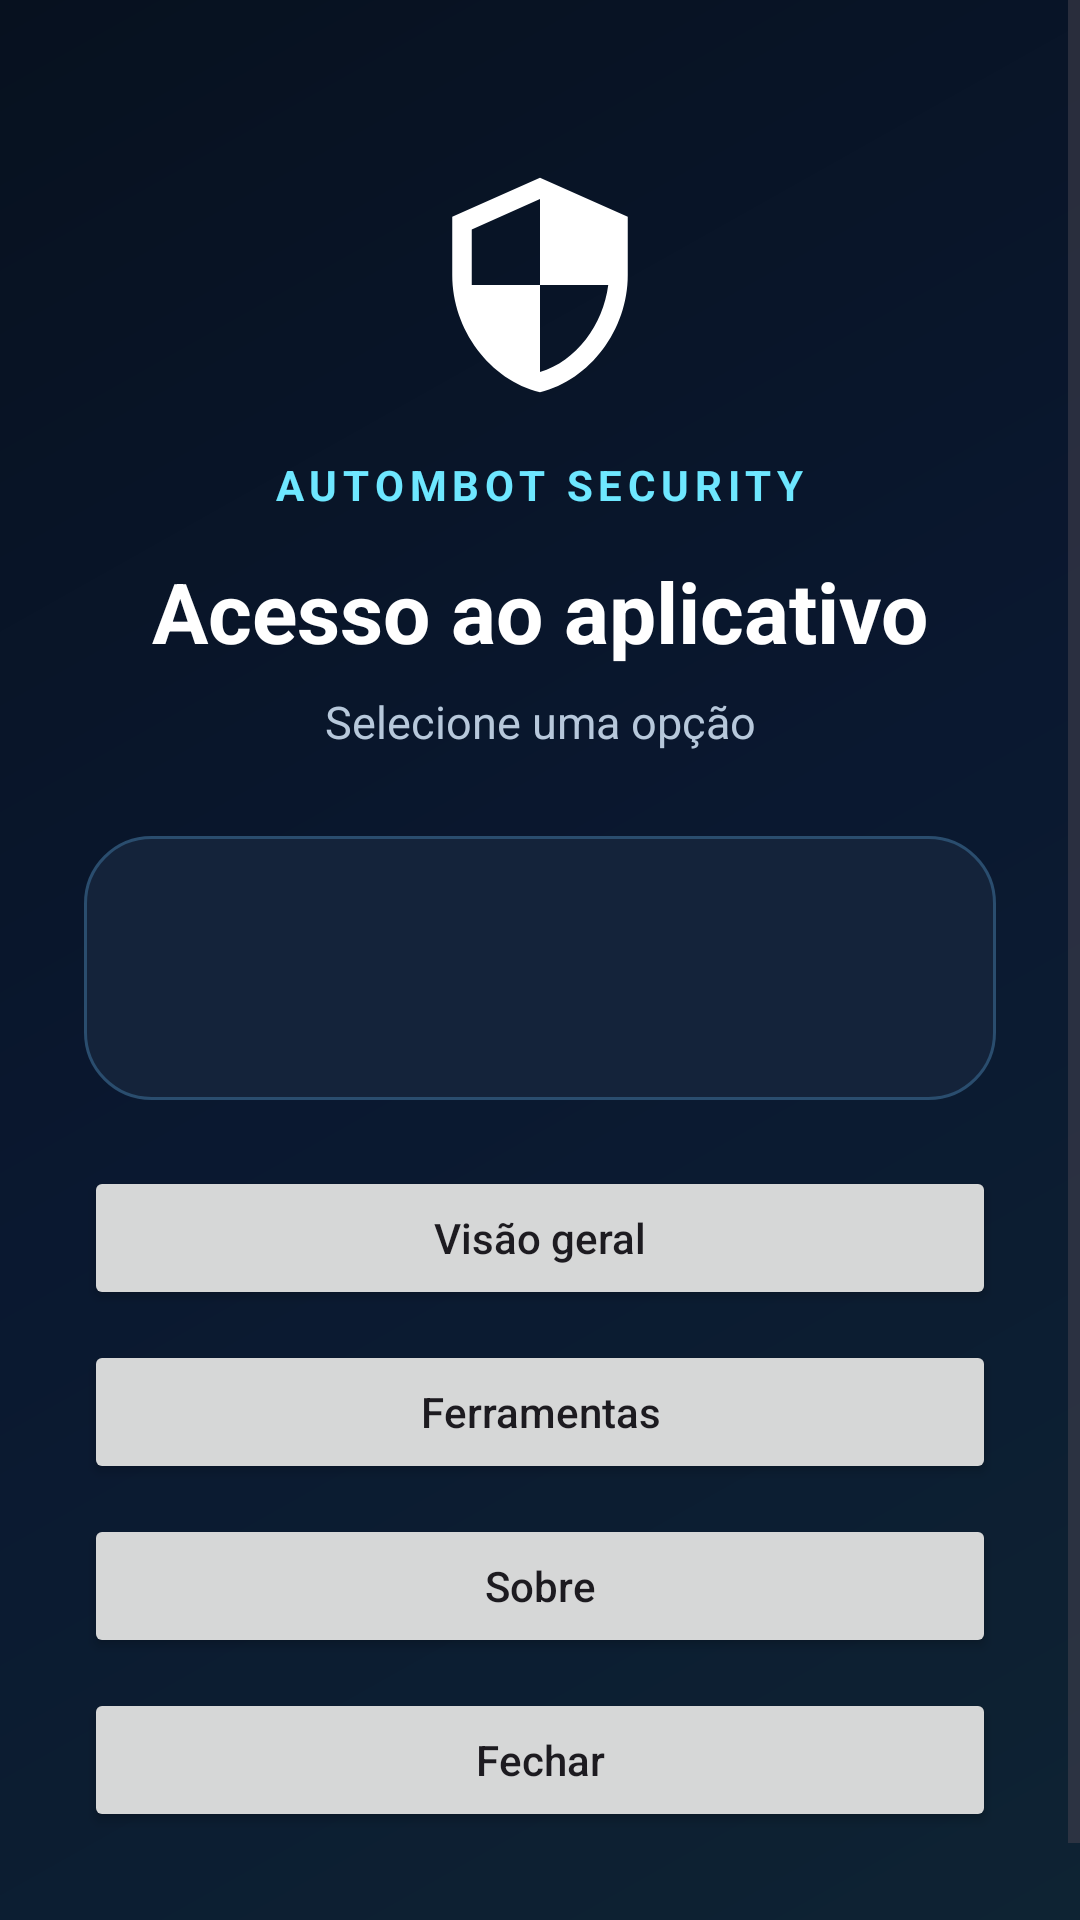

Point at icon controls on the screen. Image size 1080x1920, points as (x,y).
shield: (540,285)
